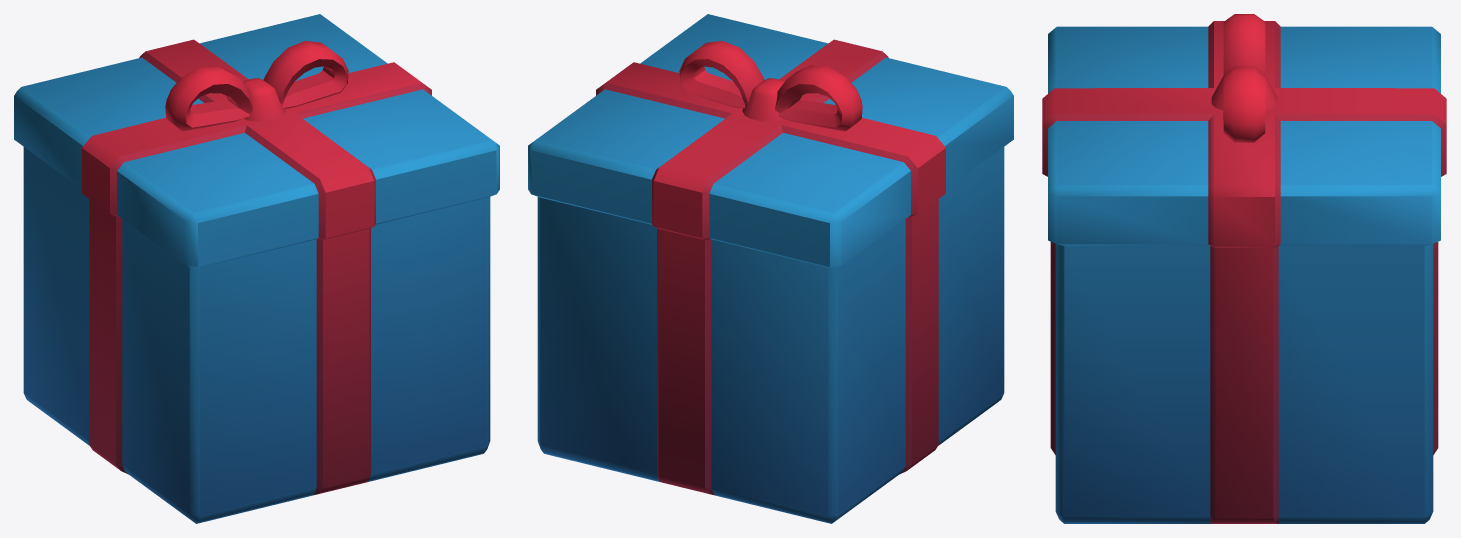
Rendered from blue_box.glb.
3 renders of one model, left to right at view 1: azimuth 30°, elevation 25°; view 2: azimuth 150°, elevation 25°; view 3: azimuth 270°, elevation 25°, orthographic. The views are drawn at different scales.
Visible parts, largest first — view 1: present_D_blue; view 2: present_D_blue; view 3: present_D_blue.
Boxes of the visible parts, x1,y1,x2,y2 form: present_D_blue: [14, 14, 499, 523]; present_D_blue: [528, 14, 1013, 523]; present_D_blue: [1042, 14, 1446, 523].
Size of the model in its own units: 0.9638 by 1.06 by 0.9638.
1 material, 1 textured.
